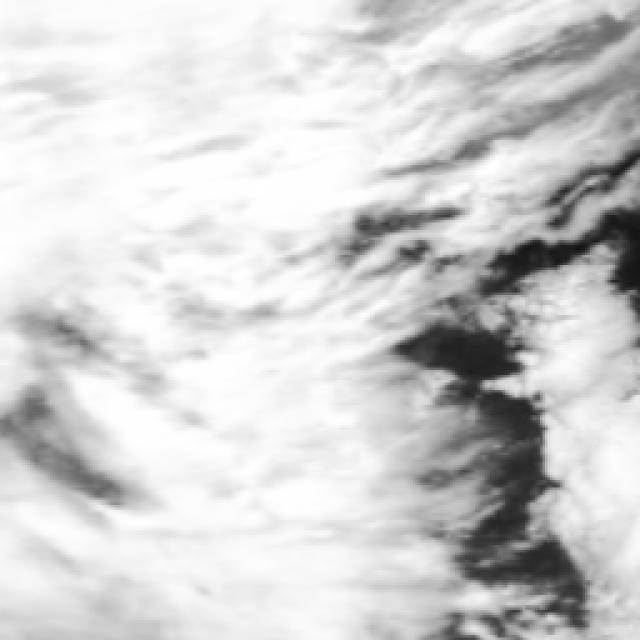CB: (0, 193, 227, 378), (214, 195, 384, 426), (0, 0, 208, 188), (130, 370, 326, 569), (0, 458, 200, 640), (197, 2, 375, 201), (182, 466, 379, 640), (372, 2, 536, 178)
